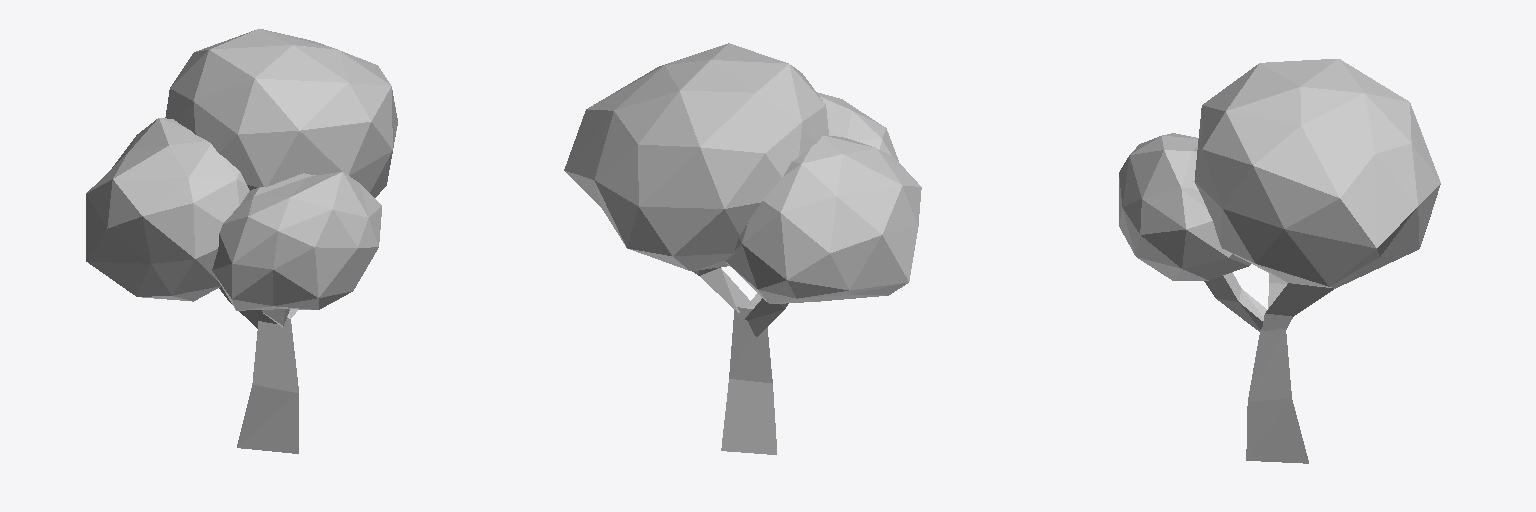
File: tree-1.obj
3 renders of one model, left to right at view 1: azimuth 30°, elevation 25°; view 2: azimuth 150°, elevation 25°; view 3: azimuth 270°, elevation 25°, orthographic.
Parts seen in each view (by area): view 1: Icosphere.004; view 2: Icosphere.004; view 3: Icosphere.004.
Part boxes in pixels (bbox=[...]): Icosphere.004: bbox=[86, 29, 397, 453]; Icosphere.004: bbox=[564, 43, 921, 454]; Icosphere.004: bbox=[1119, 59, 1440, 463].
Size of the model in its own units: 2.1 by 2.48 by 1.88.